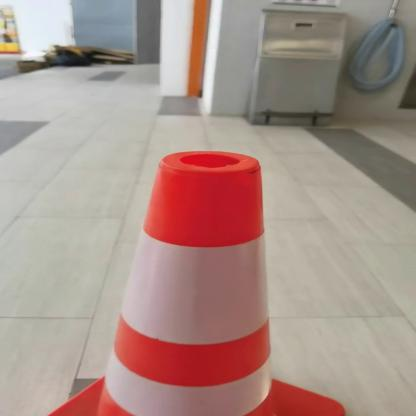cone: (37, 146, 356, 416)
